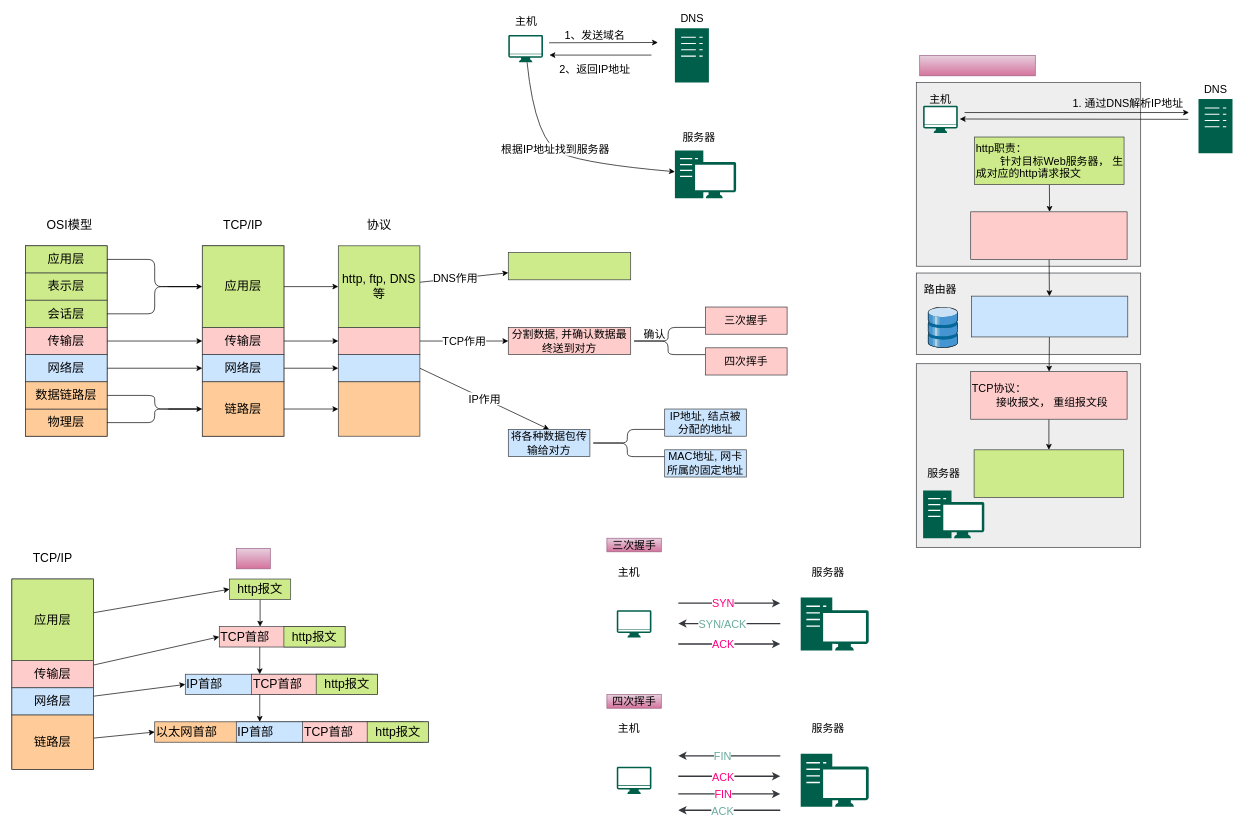
This 1244x828 diagram has some shape labels left out. The shapes that lost their labels are listed below. From the top down, each one's centre as x and y in pixels, then its label:
At [977,65]: "使用http协议的传输".
At [1048,235]: "TCP协议： 将http报文分成多个报文段， 建立可靠连接后发送报文".
At [569,266]: "将主机名/域名解析为IP地址".
At [1049,316]: "IP协议： 搜索对方地址， 一边中转一边发送".
At [379,341]: "TCP, UDP".
At [379,368]: "IP".
At [379,408]: "连接网络的硬件部分".
At [1048,473]: "http职责： 对web服务器请求的内容做处理".
At [253,558]: "实例".
